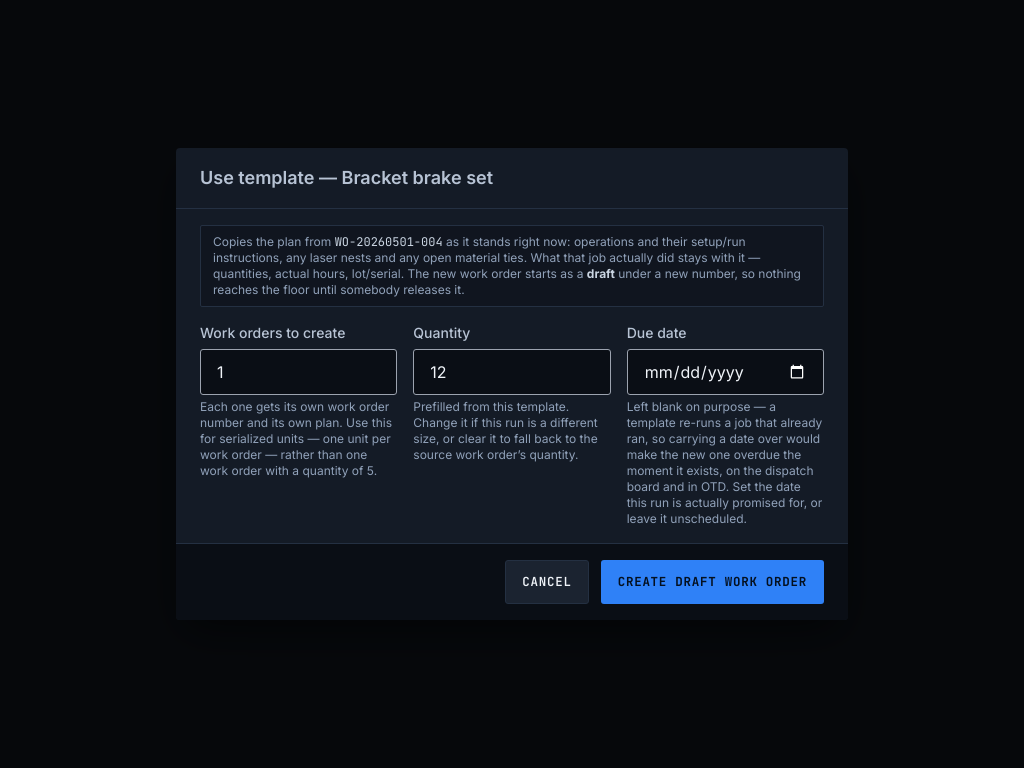
Scenario: UseTemplateModal: a partial copy stops the flow › stays on screen long past the moment a toast would have vanished
Click the button "Create draft work order". click: (712, 582)
box: [601, 560, 824, 604]
Wait 30000 ms
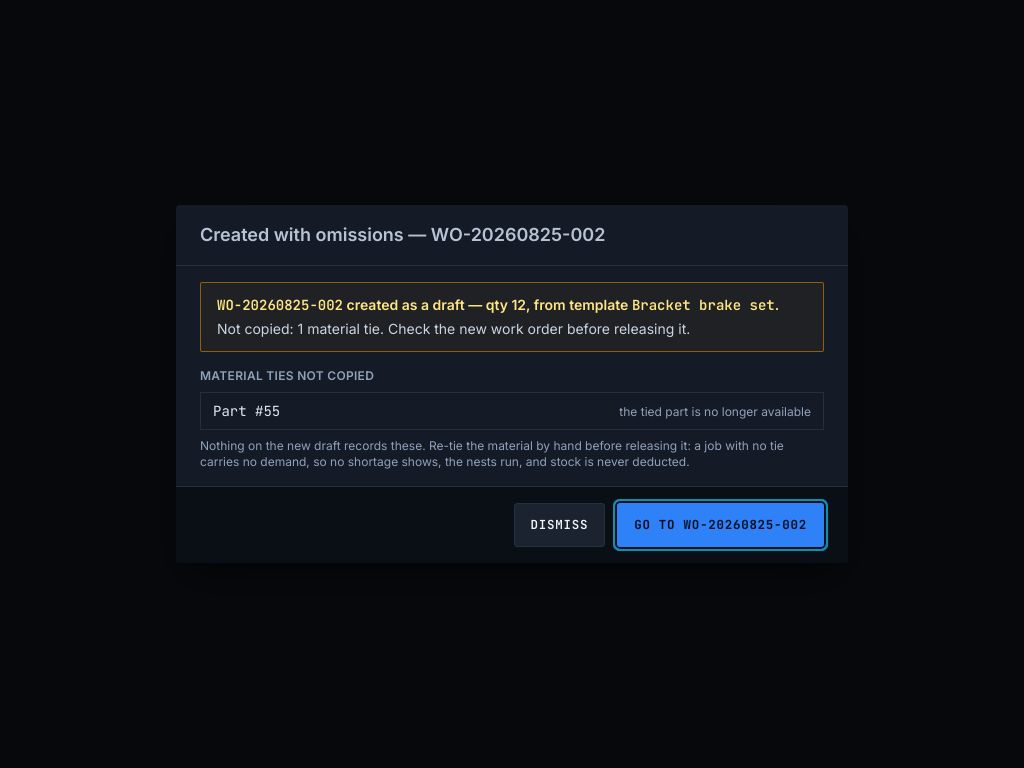
Result: the message with test id "duplicate-wo-skips" is shown at [200, 282, 824, 352]
